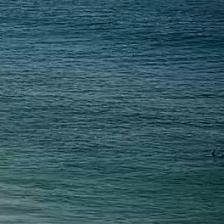surfer: (210, 150, 217, 158)
